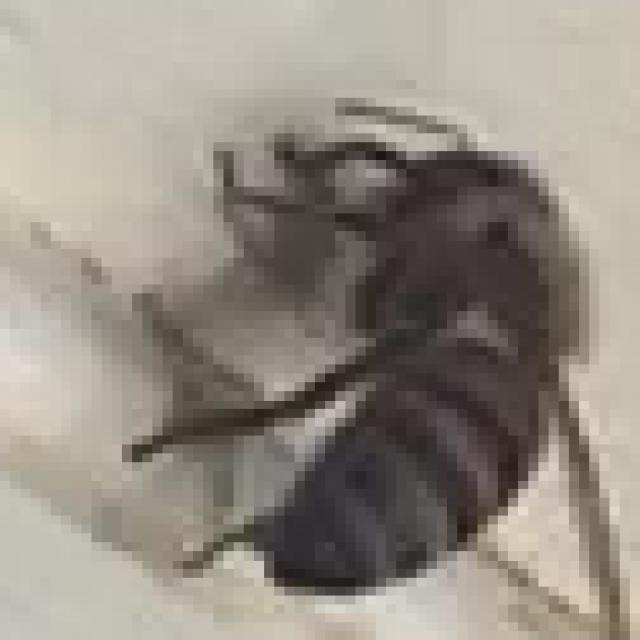honeybee: (126, 30, 640, 636)
